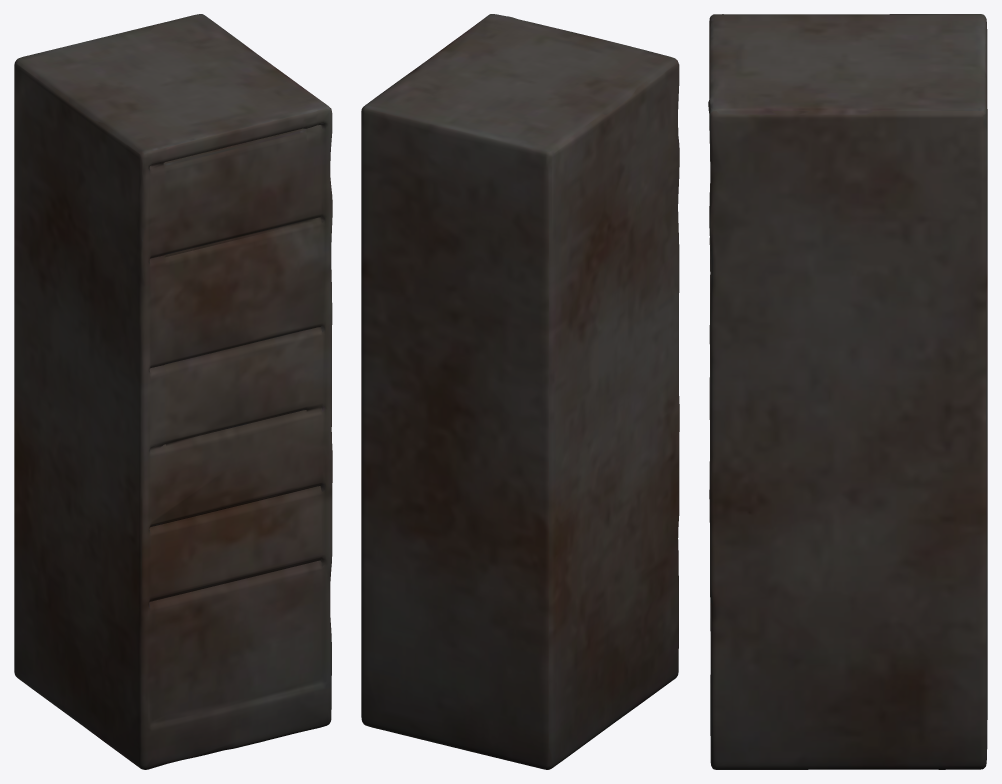
The model's file is simple-iron-filing-cabinet-v001.glb.
3 renders of one model, left to right at view 1: azimuth 30°, elevation 25°; view 2: azimuth 150°, elevation 25°; view 3: azimuth 270°, elevation 25°, orthographic. The views are drawn at different scales.
Visible parts, largest first — view 1: simple-iron-filing-cabinet; view 2: simple-iron-filing-cabinet; view 3: simple-iron-filing-cabinet.
Boxes of the visible parts, box(x1,y1,x2,y2) form: simple-iron-filing-cabinet: box(14, 14, 332, 769); simple-iron-filing-cabinet: box(361, 14, 679, 769); simple-iron-filing-cabinet: box(708, 14, 987, 769).
Bounding box in the file's own units: 0.4533 × 1.4 × 0.5349.
1 material, 1 textured.
